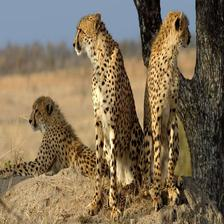Cheetah: (72, 12, 150, 222), (138, 9, 196, 214), (0, 96, 128, 188)
